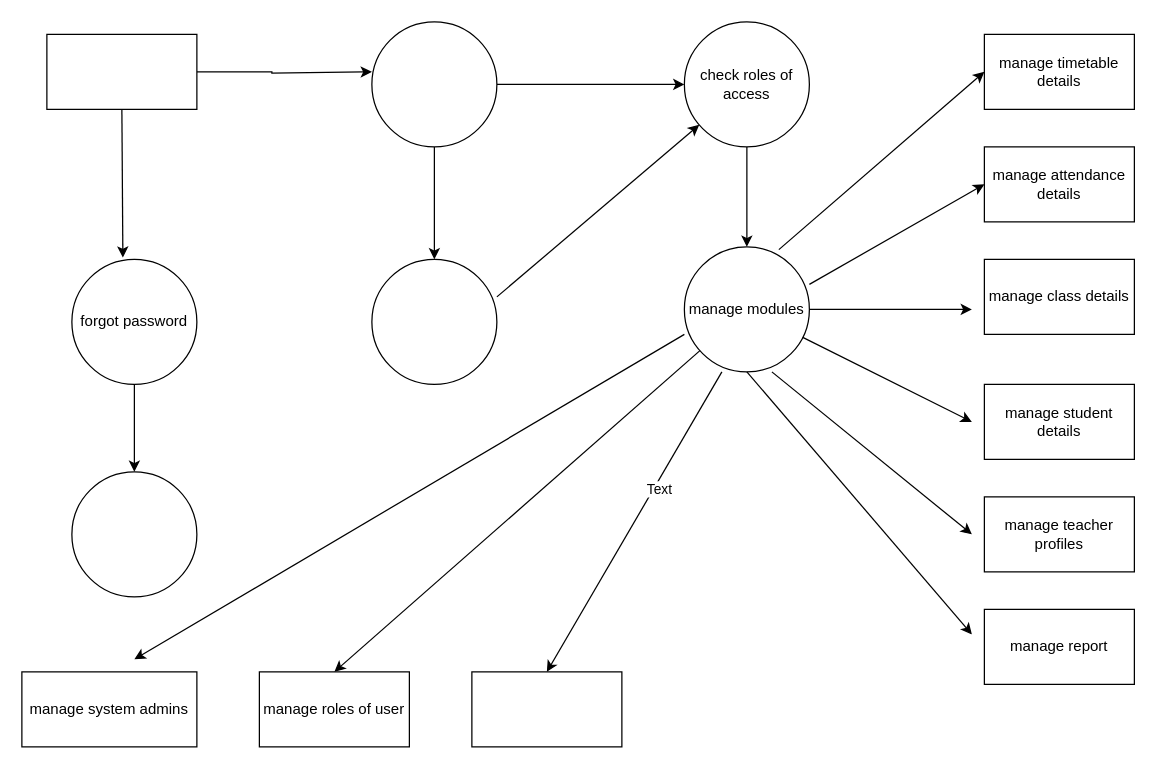
Some shapes in this 1156 by 769 pixel diagram are drawn without their labels. The centre of each missing label's shape, as x and y in pixels:
admin: (121,71)
check credentials: (434,321)
login to system: (434,84)
manage user permission: (546,709)
send email to user: (134,534)
